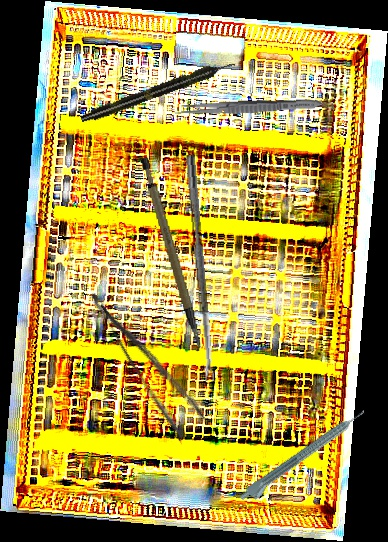Dressing Forceps: (87, 277, 208, 440), (174, 96, 322, 118)
Handpiece: (237, 407, 372, 508), (79, 57, 237, 126)
Scalpel Handle: (137, 152, 203, 357)
Surgical Spoon: (184, 154, 215, 382)
